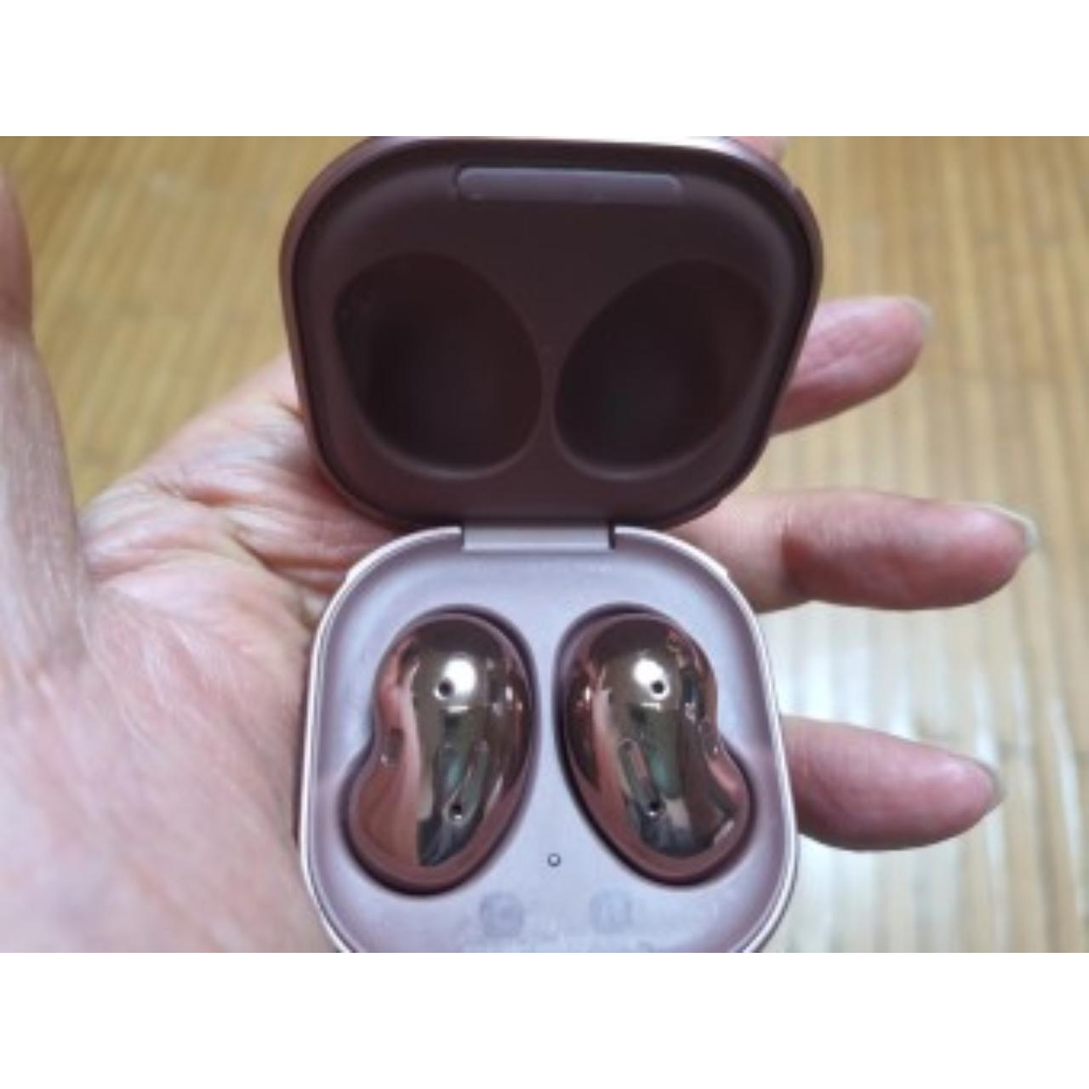Buds: (258, 136, 831, 953)
Buds_Units: (336, 602, 540, 903), (553, 597, 759, 894)
